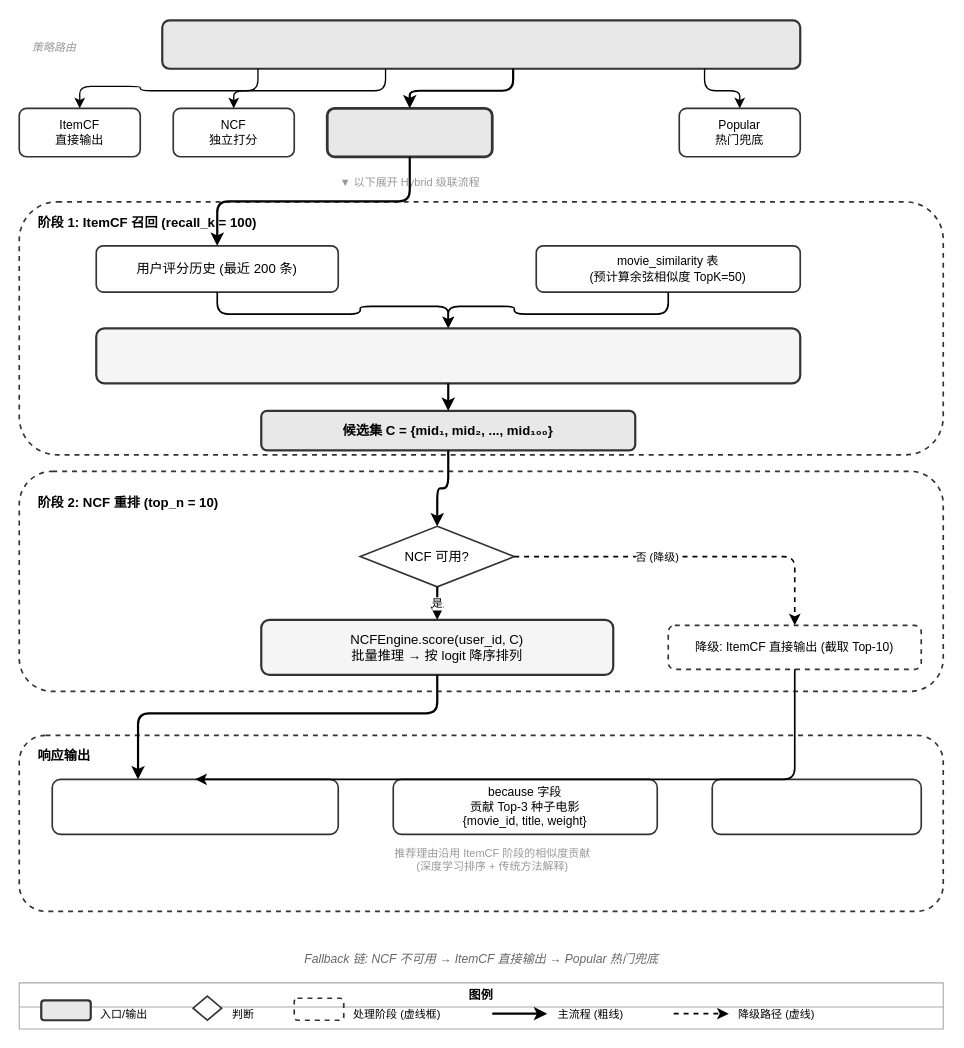
Some shapes in this 964 by 1048 pixel diagram are drawn without their labels. The shapes that lost their labels are listed below. From the top down, each one's centre as x and y in pixels, then its label:
At [481,44]: "GET /api/recommendations?strategy=hybrid&n=10&recall_k=100".
At [409,132]: "Hybrid 级联 (召回+重排)".
At [448,355]: "IN 批量查询 → 按 movie_id 分组 → score = Σ (similarity × user_rating) → 过滤已评分 → 排序".
At [195,806]: "Top-10 推荐列表 {movie_id, title, poster_url, score, ...}".
At [816,806]: "meta 字段 {actual_strategy, fallback_reason}".
